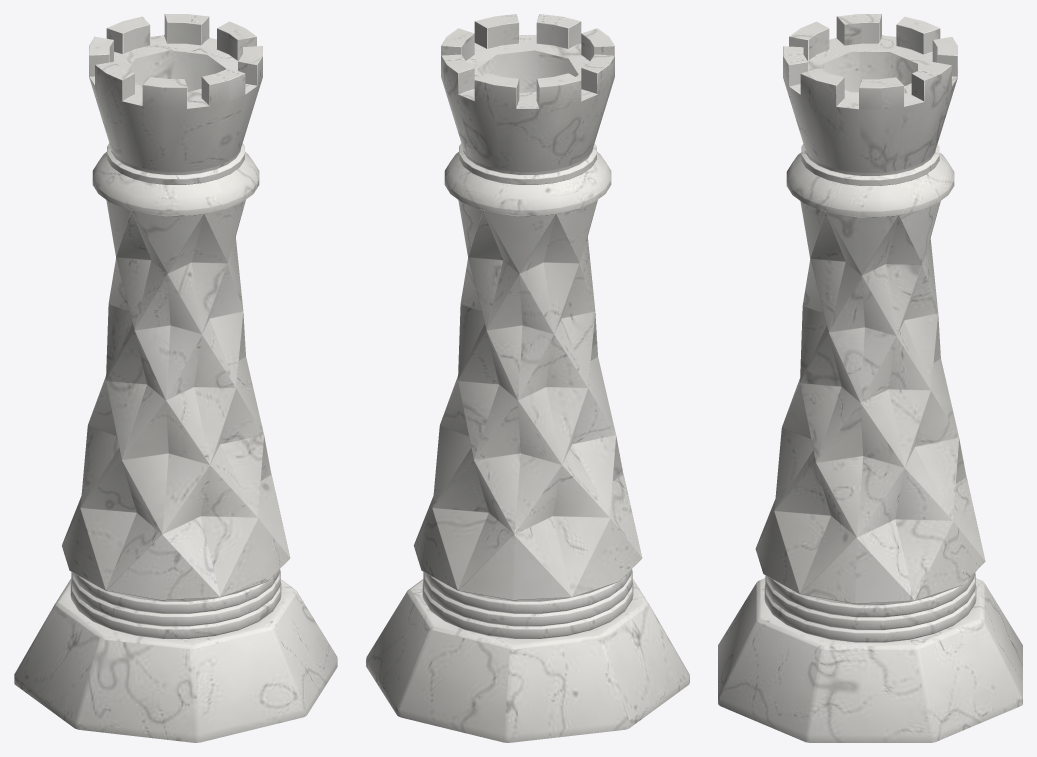
Rendered from marker-church.glb.
3 renders of one model, left to right at view 1: azimuth 30°, elevation 25°; view 2: azimuth 150°, elevation 25°; view 3: azimuth 270°, elevation 25°, orthographic.
Parts seen in each view (by area): view 1: Marker_Church_LOD1; view 2: Marker_Church_LOD1; view 3: Marker_Church_LOD1.
Part boxes in pixels (x1,y1,x2,y2): Marker_Church_LOD1: (14, 14, 337, 742); Marker_Church_LOD1: (366, 14, 689, 742); Marker_Church_LOD1: (718, 14, 1022, 742).
Size of the model in its own units: 0.4619 by 1.05 by 0.4619.
Materials: 1 (1 with a texture image).
